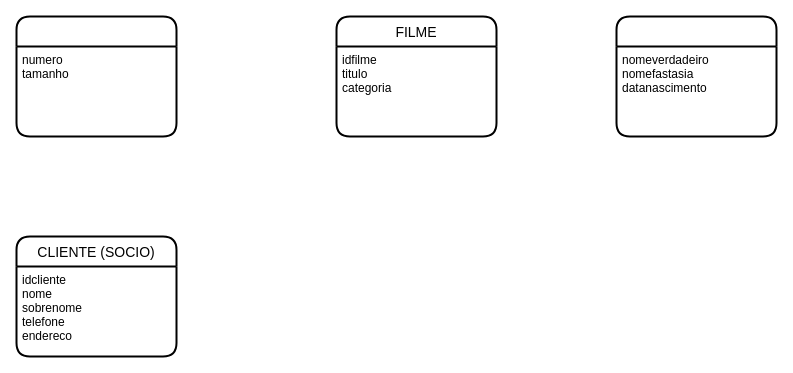
This 793x373 diagram has some shape labels left out. The box of each missing label's shape, as (x1, y1, x2, y2) in pixels:
ATOR: (615, 15, 777, 137)
STREMER: (15, 15, 177, 137)
